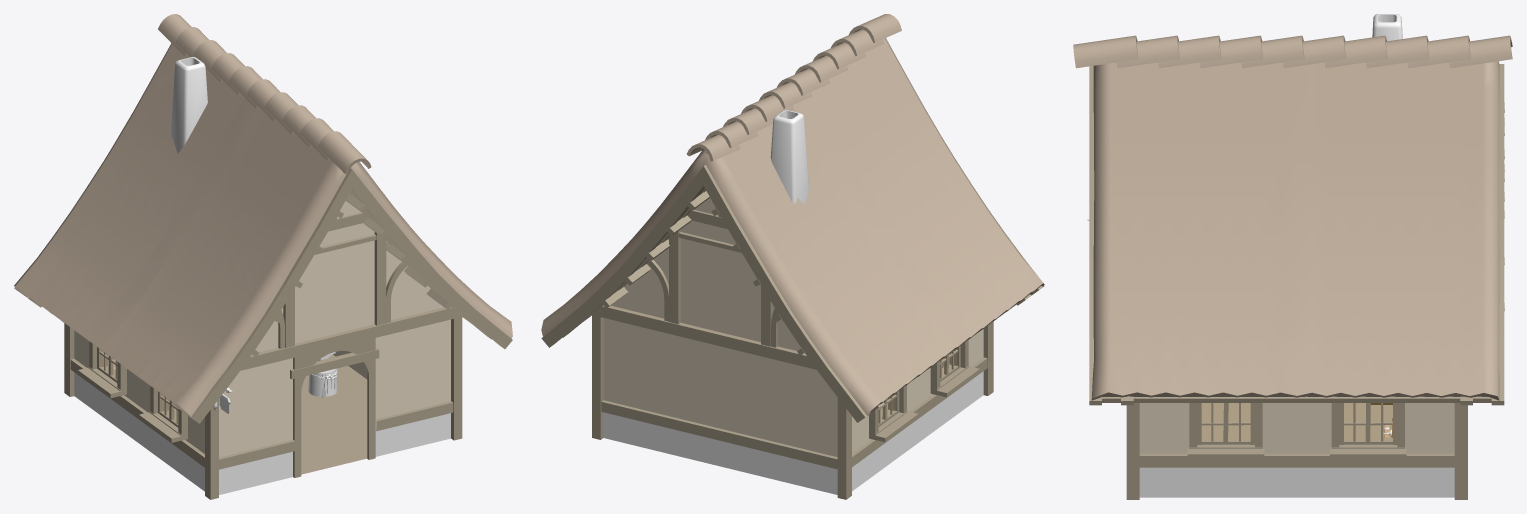
Rendered from eastbrook_workshop.glb.
The picture shows the model from 3 angles, left to right: view 1: azimuth 30°, elevation 25°; view 2: azimuth 150°, elevation 25°; view 3: azimuth 270°, elevation 25°; orthographic projection. The views are drawn at different scales.
Parts seen in each view (by area): view 1: civic-workshop:roof:village/MI_RoundTiles, civic-workshop:roof:village/MI_WoodTrim, civic-workshop:structure:village/MI_Plaster, civic-workshop:structure:village/MI_WoodTrim, civic-workshop:roof:village/MI_Plaster, civic-workshop:structure:village/MI_UnevenBrick, civic-workshop:floor:village/MI_WoodTrim, civic-workshop:window:village/MI_WoodTrim, civic-workshop:roof:village/MI_UnevenBrick, civic-workshop:furniture:props/MI_Trim_Props; view 2: civic-workshop:roof:village/MI_RoundTiles, civic-workshop:structure:village/MI_Plaster, civic-workshop:roof:village/MI_WoodTrim, civic-workshop:roof:village/MI_Plaster, civic-workshop:structure:village/MI_UnevenBrick, civic-workshop:structure:village/MI_WoodTrim, civic-workshop:window:village/MI_WoodTrim, civic-workshop:roof:village/MI_UnevenBrick; view 3: civic-workshop:roof:village/MI_RoundTiles, civic-workshop:structure:village/MI_UnevenBrick, civic-workshop:structure:village/MI_Plaster, civic-workshop:structure:village/MI_WoodTrim, civic-workshop:roof:village/MI_WoodTrim, civic-workshop:window:village/MI_WoodTrim, civic-workshop:floor:village/MI_WoodTrim, civic-workshop:roof:village/MI_UnevenBrick.
Boxes of the visible parts, x1,y1,x2,y2 form: civic-workshop:roof:village/MI_RoundTiles: [14, 14, 512, 416]; civic-workshop:roof:village/MI_WoodTrim: [14, 128, 512, 423]; civic-workshop:structure:village/MI_Plaster: [74, 319, 450, 457]; civic-workshop:structure:village/MI_WoodTrim: [64, 312, 462, 499]; civic-workshop:roof:village/MI_Plaster: [255, 200, 443, 352]; civic-workshop:structure:village/MI_UnevenBrick: [74, 372, 450, 494]; civic-workshop:floor:village/MI_WoodTrim: [169, 355, 367, 474]; civic-workshop:window:village/MI_WoodTrim: [78, 341, 187, 442]; civic-workshop:roof:village/MI_UnevenBrick: [170, 57, 207, 153]; civic-workshop:furniture:props/MI_Trim_Props: [308, 369, 337, 396]; civic-workshop:roof:village/MI_RoundTiles: [541, 14, 1044, 415]; civic-workshop:structure:village/MI_Plaster: [603, 318, 983, 457]; civic-workshop:roof:village/MI_WoodTrim: [541, 164, 1044, 422]; civic-workshop:roof:village/MI_Plaster: [611, 198, 800, 350]; civic-workshop:structure:village/MI_UnevenBrick: [603, 371, 983, 494]; civic-workshop:structure:village/MI_WoodTrim: [592, 310, 993, 499]; civic-workshop:window:village/MI_WoodTrim: [869, 340, 979, 442]; civic-workshop:roof:village/MI_UnevenBrick: [770, 110, 808, 205]; civic-workshop:roof:village/MI_RoundTiles: [1073, 35, 1512, 400]; civic-workshop:structure:village/MI_UnevenBrick: [1139, 467, 1454, 497]; civic-workshop:structure:village/MI_Plaster: [1139, 403, 1454, 453]; civic-workshop:structure:village/MI_WoodTrim: [1126, 403, 1467, 499]; civic-workshop:roof:village/MI_WoodTrim: [1089, 64, 1504, 405]; civic-workshop:window:village/MI_WoodTrim: [1187, 403, 1406, 459]; civic-workshop:floor:village/MI_WoodTrim: [1201, 403, 1392, 437]; civic-workshop:roof:village/MI_UnevenBrick: [1372, 14, 1402, 41].
Size of the model in its own units: 8.25 by 7.89 by 8.03.
